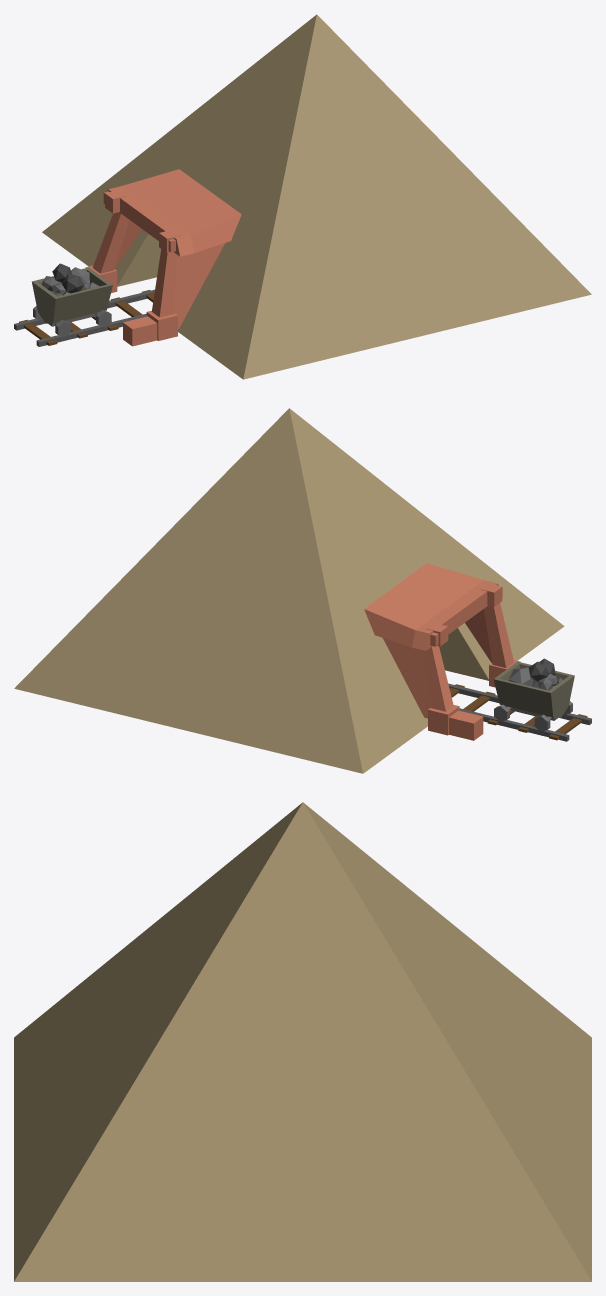
Rendered from Minenpyramide.fbx.
3 views of the same model, one above another, from view 1: azimuth 30°, elevation 25°; view 2: azimuth 150°, elevation 25°; view 3: azimuth 270°, elevation 25° (orthographic). The views are drawn at different scales.
Visible parts, largest first — view 1: Cube.003; view 2: Cube.003; view 3: Cube.003.
Part boxes in pixels (x1,y1,x2,y2): Cube.003: [14, 14, 591, 379]; Cube.003: [14, 408, 591, 773]; Cube.003: [14, 802, 591, 1281].
Size of the model in its own units: 2030 by 1076 by 1525.
